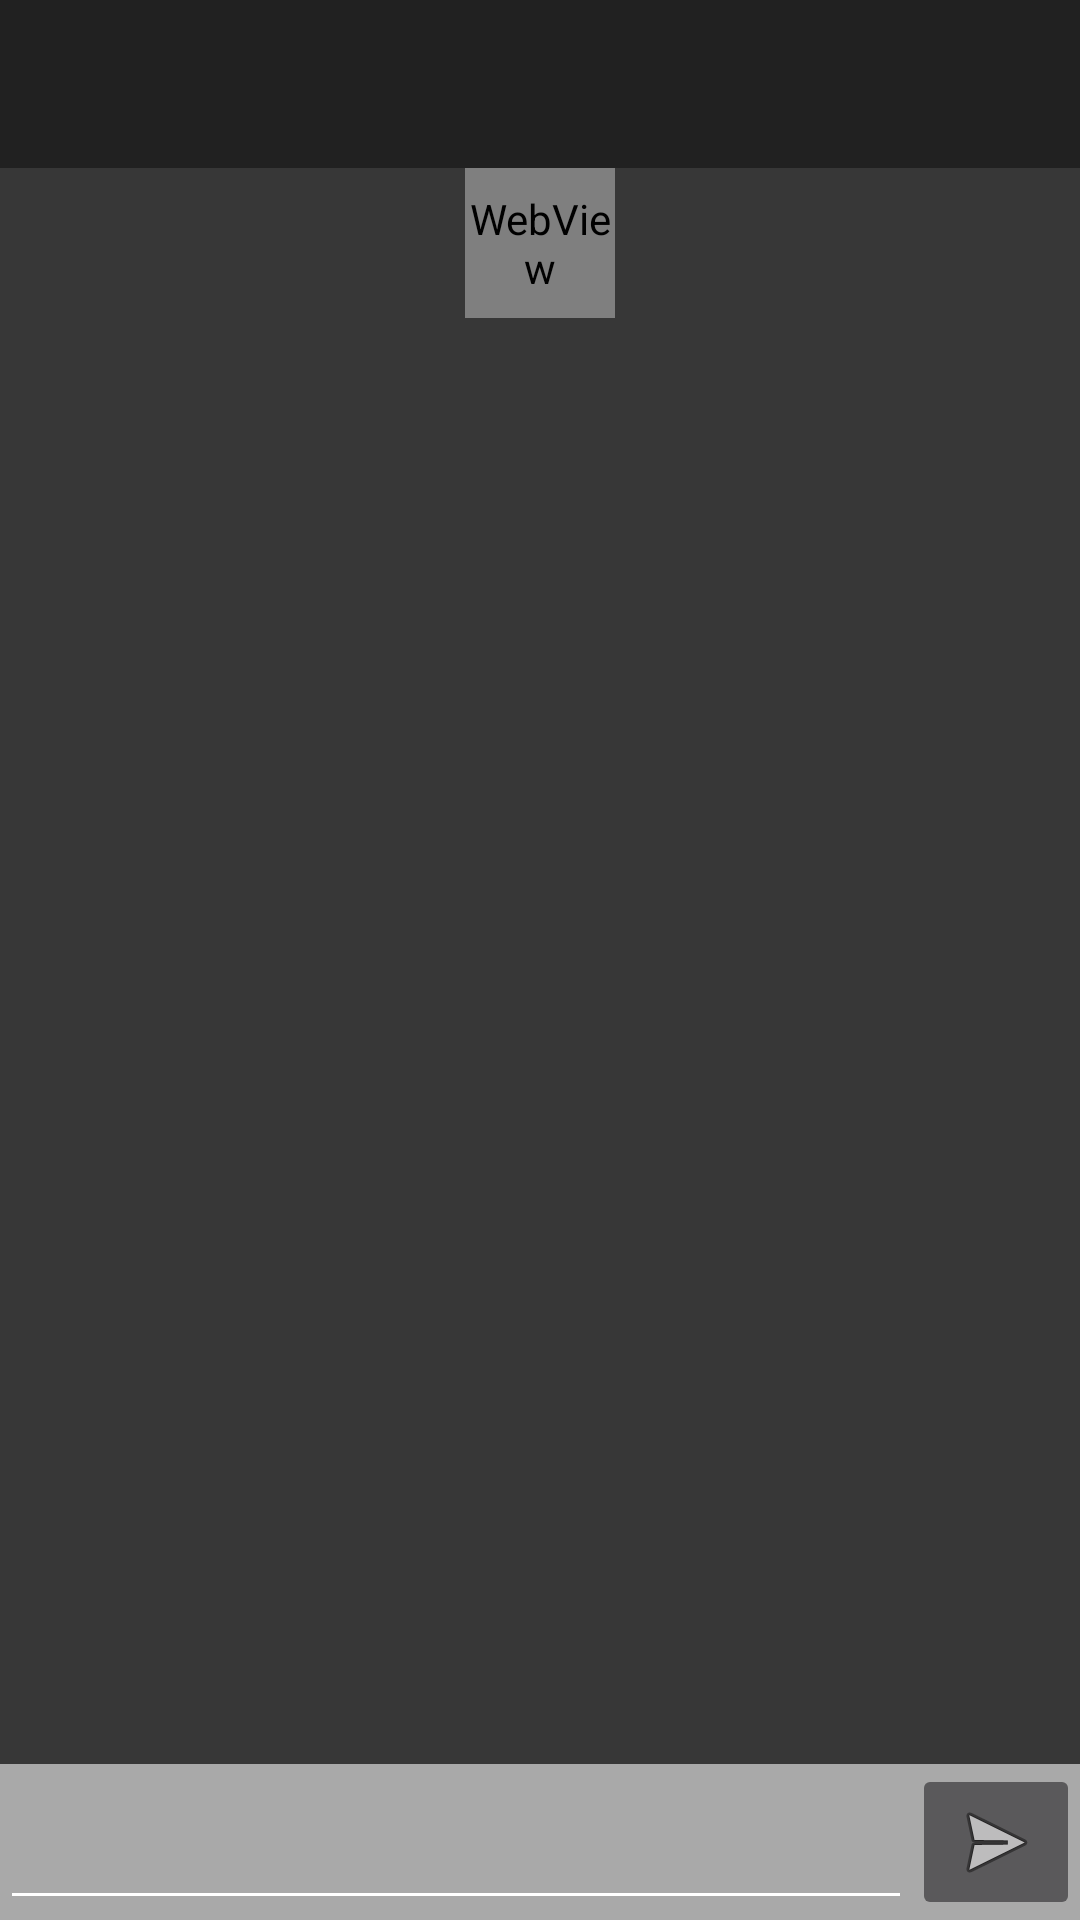

Icon click points for this 1080px×1920px phone screenshot, format point (x, y):
send: point (996, 1842)
